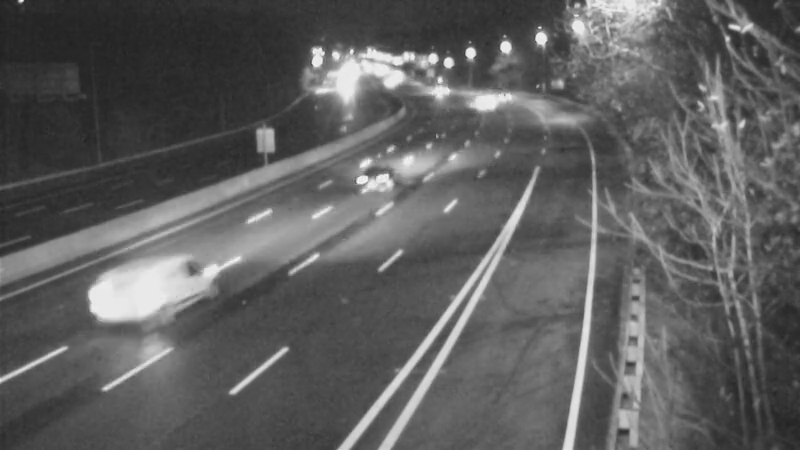vehicle: (335, 142, 415, 222), (94, 248, 174, 328), (419, 64, 469, 114), (478, 72, 528, 122), (457, 72, 507, 122)
